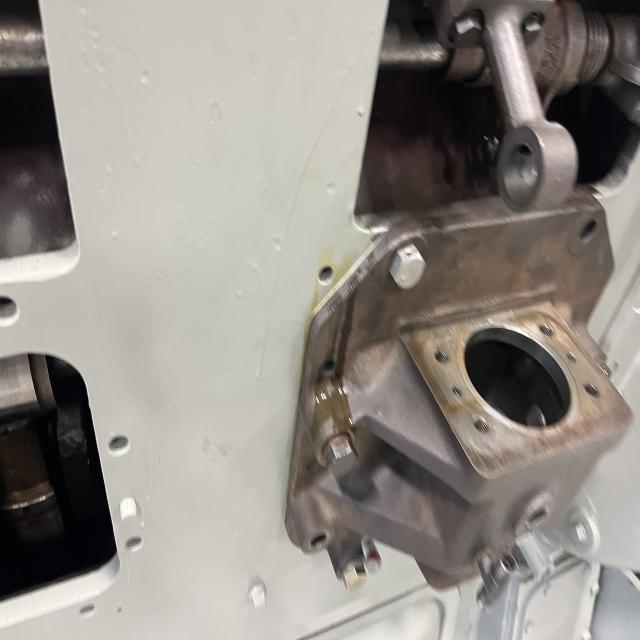Oil Leak: (291, 231, 382, 473)
